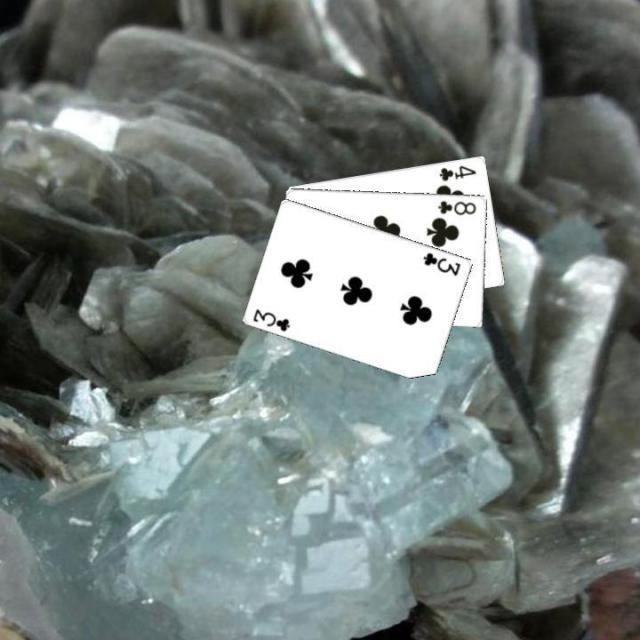3C: (420, 248, 464, 278), (249, 305, 293, 333)
4C: (436, 161, 478, 183)
8C: (435, 196, 479, 216)
